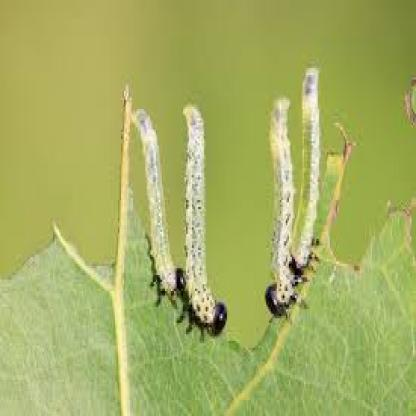sawfly: (178, 99, 229, 340), (259, 89, 301, 326), (129, 106, 179, 304), (289, 63, 321, 288)
